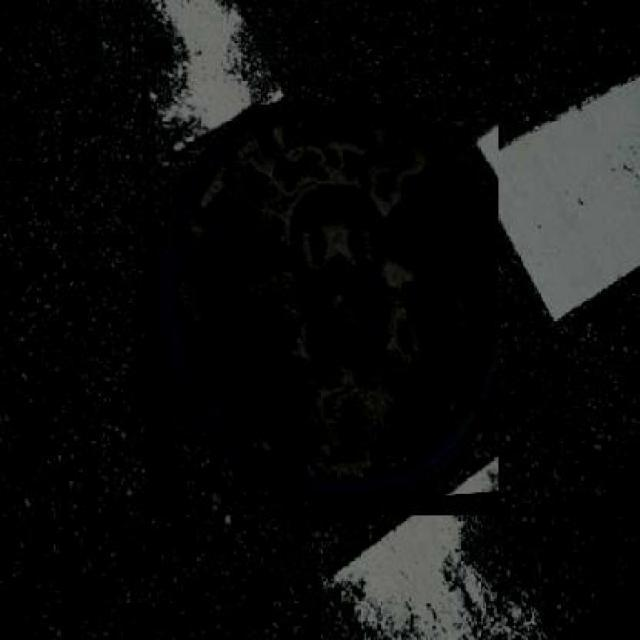Manhole: (144, 104, 498, 516)
